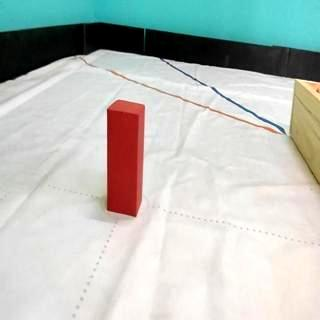redbox: (106, 98, 144, 218)
